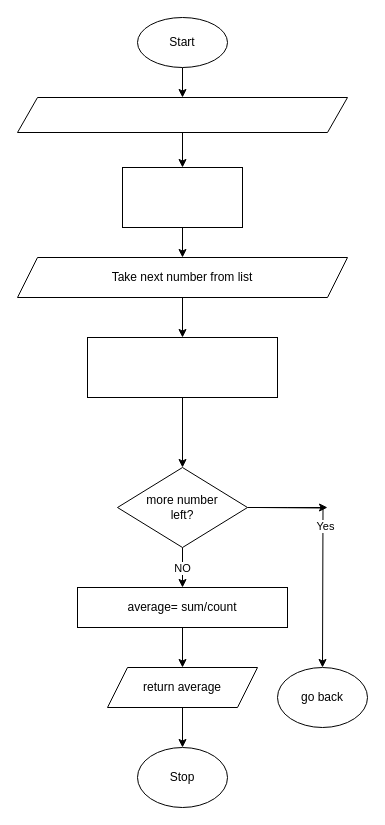
Some shapes in this 385 by 825 pixel diagram are drawn without their labels. Here are the shapes that lost their labels. From the top down, the centre of each, then its label:
pixel 182 114: Read list of numbers
pixel 182 197: Sum=0 Count=0
pixel 182 367: Sum=sum + number Count=count+1
